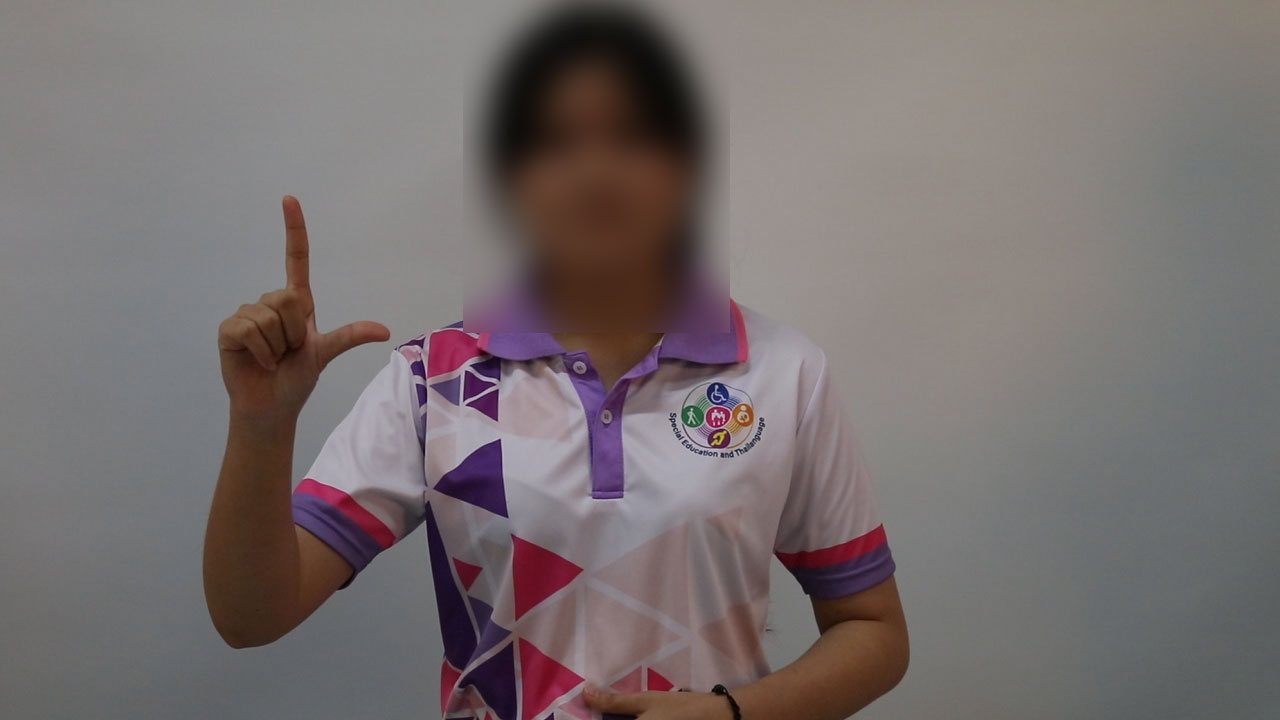lor: (203, 186, 399, 440)
